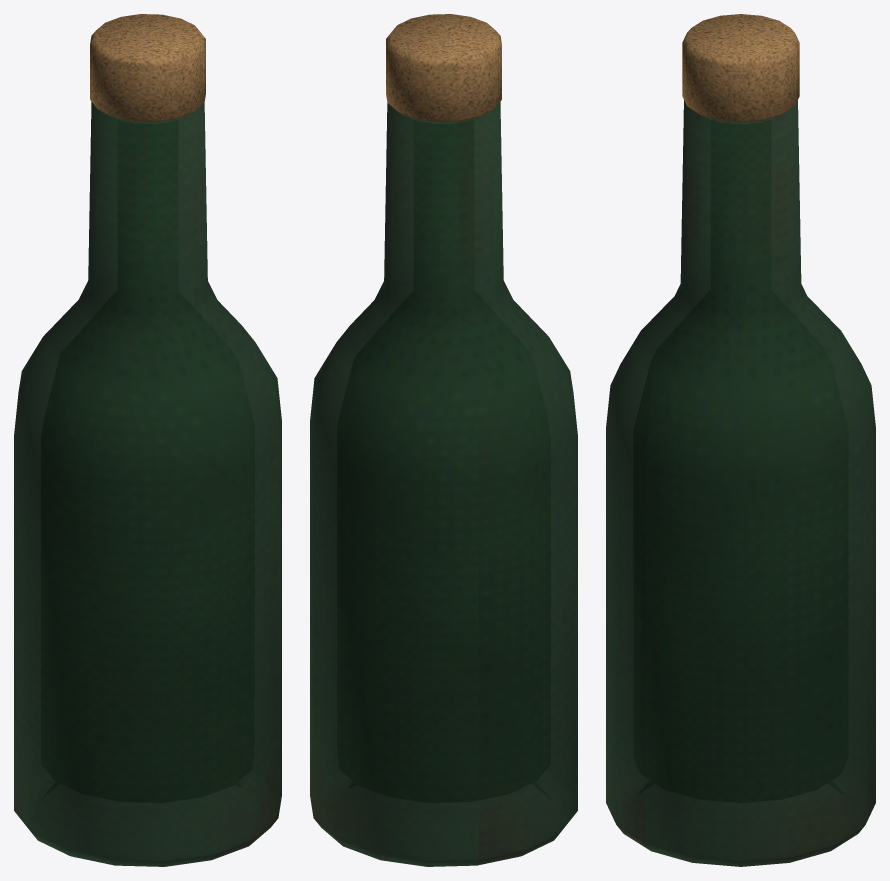
The model's file is BottleWine01.001.fbx.
3 renders of one model, left to right at view 1: azimuth 30°, elevation 25°; view 2: azimuth 150°, elevation 25°; view 3: azimuth 270°, elevation 25°, orthographic.
Parts seen in each view (by area): view 1: BottleWine01.001, Cork.001; view 2: BottleWine01.001, Cork.001; view 3: BottleWine01.001, Cork.001.
Part boxes in pixels (x1=…): BottleWine01.001: x1=14, y1=101, x2=281, y2=866; Cork.001: x1=90, y1=14, x2=205, y2=123; BottleWine01.001: x1=310, y1=101, x2=577, y2=866; Cork.001: x1=386, y1=14, x2=501, y2=123; BottleWine01.001: x1=606, y1=100, x2=875, y2=866; Cork.001: x1=682, y1=14, x2=799, y2=123.
Size of the model in its own units: 0.1408 by 0.4468 by 0.1408.
Materials: 2 (2 with a texture image).
